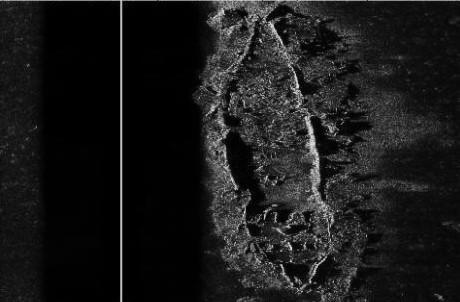ship: (204, 16, 336, 296)
